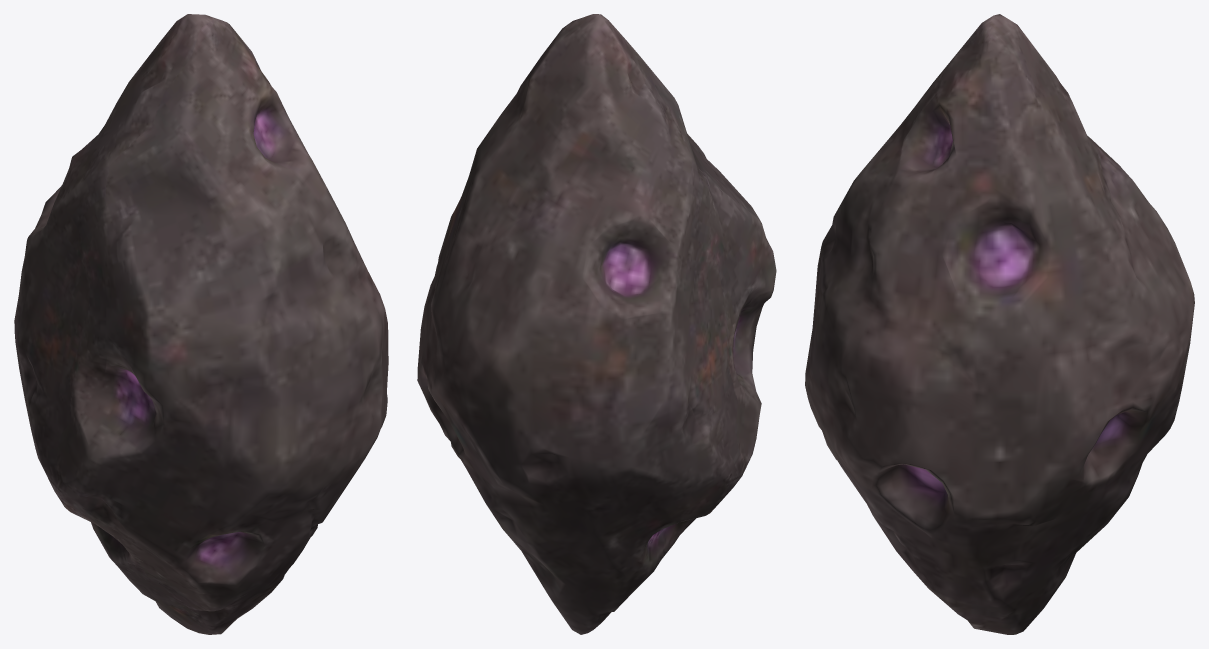
Rendered from SM_Meteor_4b2676.glb.
The picture shows the model from 3 angles, left to right: view 1: azimuth 30°, elevation 25°; view 2: azimuth 150°, elevation 25°; view 3: azimuth 270°, elevation 25°; orthographic projection.
Bounding box in the file's own units: 3.25 × 6.62 × 3.81.
Materials: 1 (1 with a texture image).
